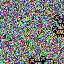sheep: (52, 26, 64, 37), (53, 14, 64, 26), (40, 56, 54, 64), (29, 58, 43, 64)
